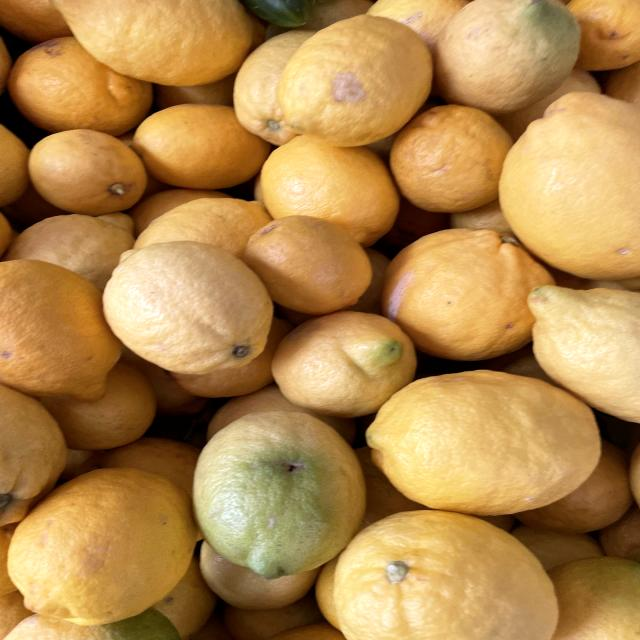lemon: (358, 362, 614, 516), (192, 396, 372, 578), (96, 232, 275, 373), (269, 12, 442, 151), (259, 300, 424, 412), (24, 123, 148, 215)
